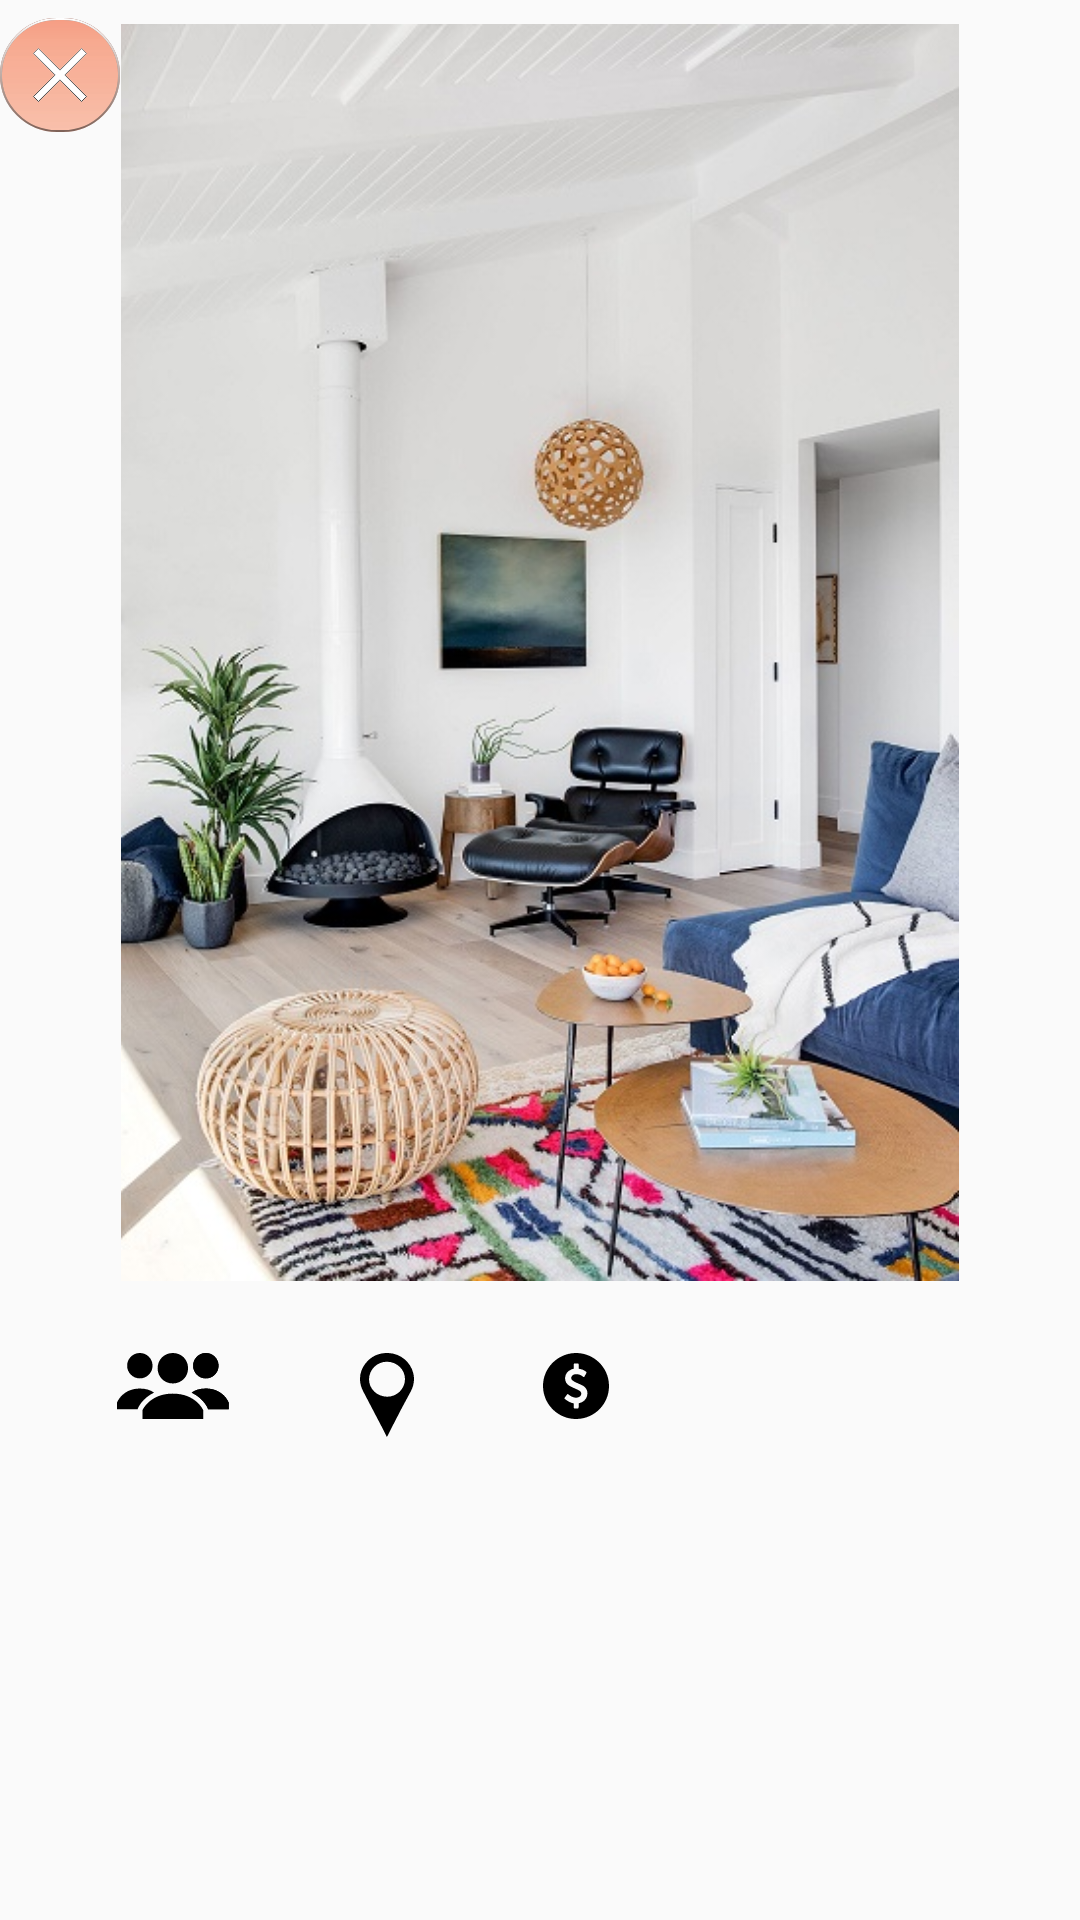

Icons on this 1080 x 1920 Android screen, each with its box as (x1, y1, x2, y2):
location: (360, 1353, 414, 1437)
price: (543, 1353, 609, 1419)
